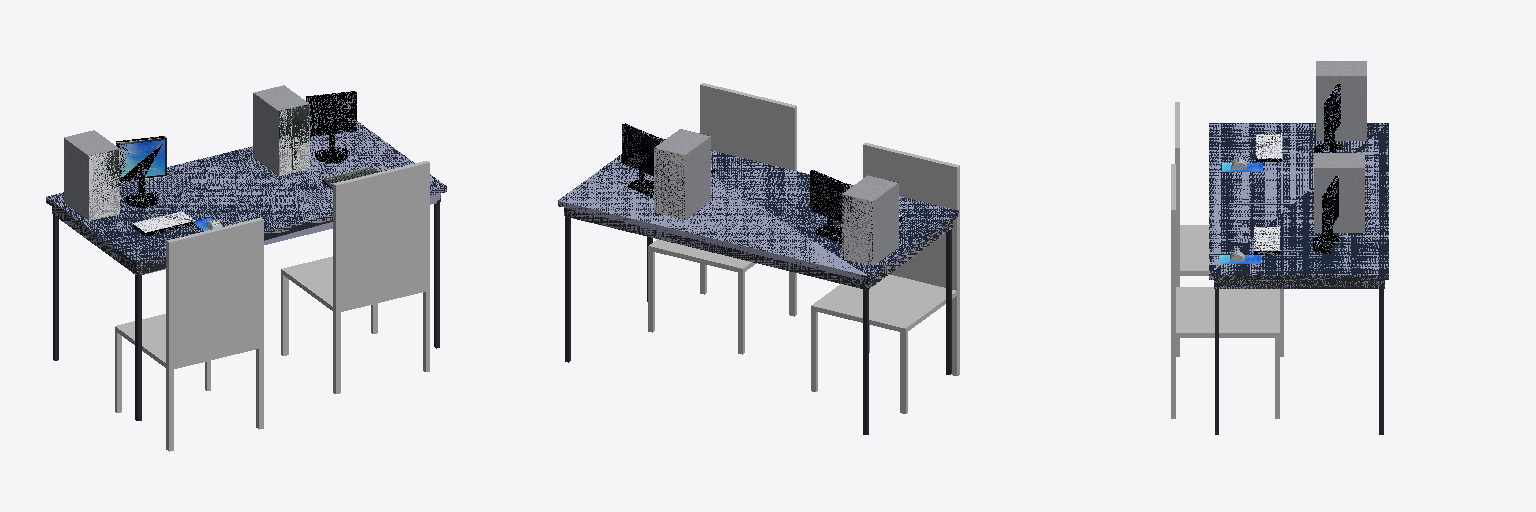
3 views of the same model, side by side, from view 1: azimuth 30°, elevation 25°; view 2: azimuth 150°, elevation 25°; view 3: azimuth 270°, elevation 25° (orthographic).
Visible parts, largest first — view 1: Mesh52 Model, Mesh51 chair_skp2 Model, Mesh50 chair_skp1 Model, Mesh31 computer__1_2 Model, Mesh10 computer__1_1 Model, Mesh30 computer__1_2 Model, Mesh13 computer__1_1 Model, Mesh9 computer__1_1 Model, Mesh1 Leg1 Model, Mesh3 Leg2 Model, Mesh5 Leg3 Model, Mesh11 computer__1_1 Model (+1 smaller); view 2: Mesh52 Model, Mesh50 chair_skp1 Model, Mesh51 chair_skp2 Model, Mesh10 computer__1_1 Model, Mesh31 computer__1_2 Model, Mesh9 computer__1_1 Model, Mesh30 computer__1_2 Model, Mesh5 Leg3 Model, Mesh7 Leg4 Model, Mesh1 Leg1 Model, Mesh35 computer__1_2 Model; view 3: Mesh52 Model, Mesh51 chair_skp2 Model, Mesh31 computer__1_2 Model, Mesh10 computer__1_1 Model, Mesh50 chair_skp1 Model, Mesh30 computer__1_2 Model, Mesh9 computer__1_1 Model, Mesh7 Leg4 Model, Mesh11 computer__1_1 Model, Mesh32 computer__1_2 Model, Mesh3 Leg2 Model.
Boxes of the visible parts, <box> form: Mesh52 Model: <box>46,121,446,275</box>; Mesh51 chair_skp2 Model: <box>281,161,429,393</box>; Mesh50 chair_skp1 Model: <box>115,218,263,451</box>; Mesh31 computer__1_2 Model: <box>253,85,309,175</box>; Mesh10 computer__1_1 Model: <box>64,130,119,220</box>; Mesh30 computer__1_2 Model: <box>306,91,356,162</box>; Mesh13 computer__1_1 Model: <box>118,137,166,179</box>; Mesh9 computer__1_1 Model: <box>116,136,165,207</box>; Mesh1 Leg1 Model: <box>135,275,141,420</box>; Mesh3 Leg2 Model: <box>434,203,439,348</box>; Mesh5 Leg3 Model: <box>53,215,58,360</box>; Mesh11 computer__1_1 Model: <box>133,211,194,236</box>; Mesh52 Model: <box>558,138,958,289</box>; Mesh50 chair_skp1 Model: <box>811,143,959,413</box>; Mesh51 chair_skp2 Model: <box>648,83,796,354</box>; Mesh10 computer__1_1 Model: <box>842,175,898,265</box>; Mesh31 computer__1_2 Model: <box>654,129,710,219</box>; Mesh9 computer__1_1 Model: <box>810,170,848,243</box>; Mesh30 computer__1_2 Model: <box>622,123,660,197</box>; Mesh5 Leg3 Model: <box>863,289,868,434</box>; Mesh7 Leg4 Model: <box>565,217,570,362</box>; Mesh1 Leg1 Model: <box>946,229,951,374</box>; Mesh35 computer__1_2 Model: <box>622,125,658,176</box>; Mesh52 Model: <box>1209,123,1388,288</box>; Mesh51 chair_skp2 Model: <box>1171,164,1279,418</box>; Mesh31 computer__1_2 Model: <box>1314,153,1364,232</box>; Mesh10 computer__1_1 Model: <box>1316,61,1366,140</box>; Mesh50 chair_skp1 Model: <box>1175,102,1283,356</box>; Mesh30 computer__1_2 Model: <box>1313,176,1338,253</box>; Mesh9 computer__1_1 Model: <box>1314,84,1340,152</box>; Mesh7 Leg4 Model: <box>1379,289,1383,434</box>; Mesh11 computer__1_1 Model: <box>1256,134,1281,161</box>; Mesh32 computer__1_2 Model: <box>1254,227,1279,254</box>; Mesh3 Leg2 Model: <box>1215,289,1218,434</box>.
Bounding box in the file's own units: 60 × 45.29 × 36.41.
Materials: 16 (7 with a texture image).